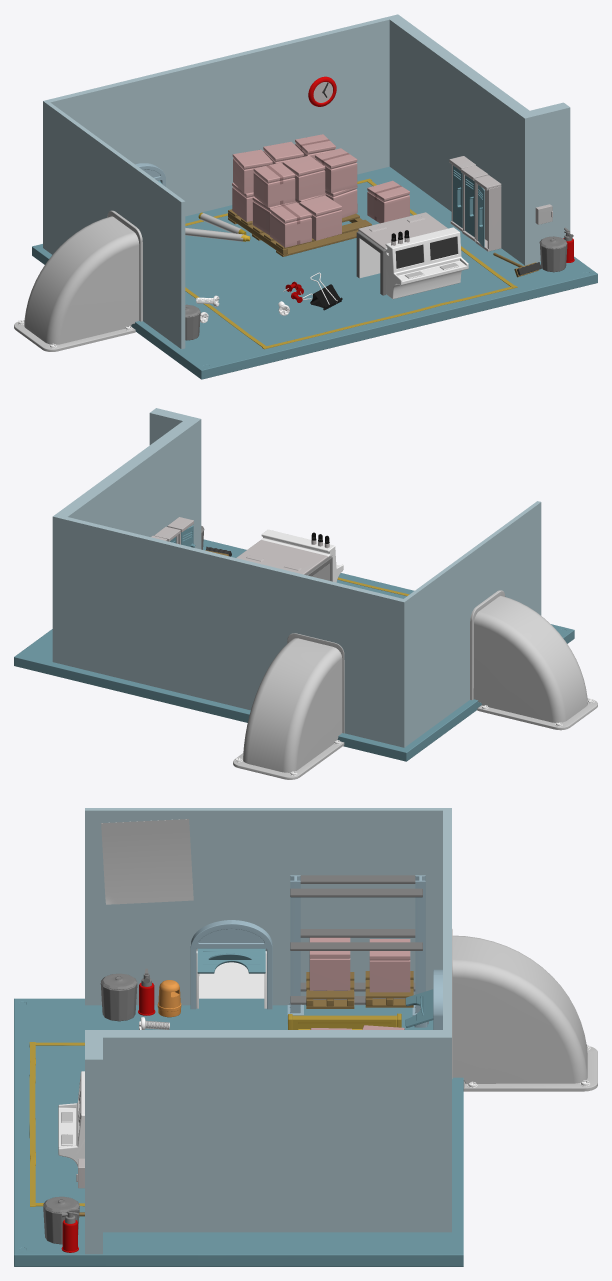
The model's file is pica_pica.gltf.
3 views of the same model, one above another, from view 1: azimuth 30°, elevation 25°; view 2: azimuth 150°, elevation 25°; view 3: azimuth 270°, elevation 25° (orthographic). The views are drawn at different scales.
Parts seen in each view (by area): view 1: Walls, Mesh8_Plastic_Blue_0, pTorus5, Body, Box_032, Box_028, Box_035, Box_033, Box_025, Box_024, pCube179_Plastic_White_Matte_0.001, Box_027 (+14 smaller); view 2: Walls, pTorus5, pTorus5_Plastic_Pink_Details_0.001, Mesh8_Plastic_Blue_0, Body; view 3: Walls, Mesh8_Plastic_Blue_0, pTorus5_Plastic_Pink_Details_0.001, pCube244, pCube248, Machine_04_Inlet_Trim_03, Box24, Box25, pCylinder143_Plastic_Blue_0.001, Body, pCube195, pCube201 (+11 smaller).
Part boxes in pixels (x1,y1,x2,y2): Walls: (43, 14, 570, 349); Mesh8_Plastic_Blue_0: (32, 166, 597, 379); pTorus5: (14, 210, 142, 351); Body: (358, 212, 468, 299); Box_032: (253, 162, 295, 207); Box_028: (269, 202, 311, 247); Box_035: (367, 180, 409, 223); Box_033: (315, 148, 357, 193); Box_025: (282, 155, 325, 200); Box_024: (299, 195, 341, 240); pCube179_Plastic_White_Matte_0.001: (475, 183, 501, 251); Box_027: (232, 149, 272, 193); Walls: (52, 408, 541, 747); pTorus5: (470, 590, 597, 730); pTorus5_Plastic_Pink_Details_0.001: (233, 633, 344, 779); Mesh8_Plastic_Blue_0: (14, 539, 574, 761); Body: (236, 529, 343, 582); Walls: (85, 808, 451, 1254); Mesh8_Plastic_Blue_0: (14, 998, 463, 1266); pTorus5_Plastic_Pink_Details_0.001: (452, 929, 597, 1091); pCube244: (101, 819, 193, 904); pCube248: (190, 920, 272, 1009); Machine_04_Inlet_Trim_03: (196, 951, 266, 1008); Box24: (369, 939, 410, 992); Box25: (309, 937, 350, 990); pCylinder143_Plastic_Blue_0.001: (197, 948, 265, 973); Body: (58, 1071, 84, 1166); pCube195: (292, 1015, 396, 1029); pCube201: (287, 875, 303, 1023).
Bounding box in the file's own units: 64.29 × 19.7 × 50.36.
